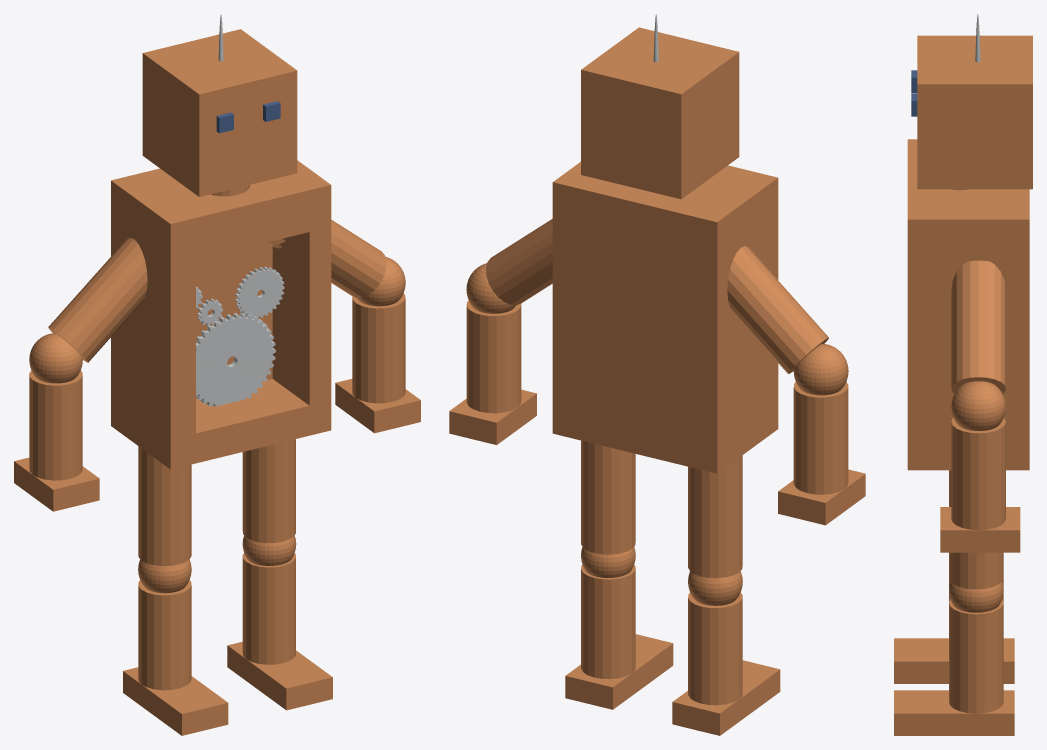
File: Robot.glb
3 renders of one model, left to right at view 1: azimuth 30°, elevation 25°; view 2: azimuth 150°, elevation 25°; view 3: azimuth 270°, elevation 25°, orthographic. The views are drawn at different scales.
Visible parts, largest first — view 1: Mesh_Mesh_head_geo.001_lambert2SG.001; view 2: Mesh_Mesh_head_geo.001_lambert2SG.001; view 3: Mesh_Mesh_head_geo.001_lambert2SG.001.
Part boxes in pixels (x1,y1,x2,y2): Mesh_Mesh_head_geo.001_lambert2SG.001: (14, 14, 420, 735); Mesh_Mesh_head_geo.001_lambert2SG.001: (449, 14, 865, 735); Mesh_Mesh_head_geo.001_lambert2SG.001: (894, 14, 1032, 735).
Bounding box in the file's own units: 74.96 × 131 × 23.99.
